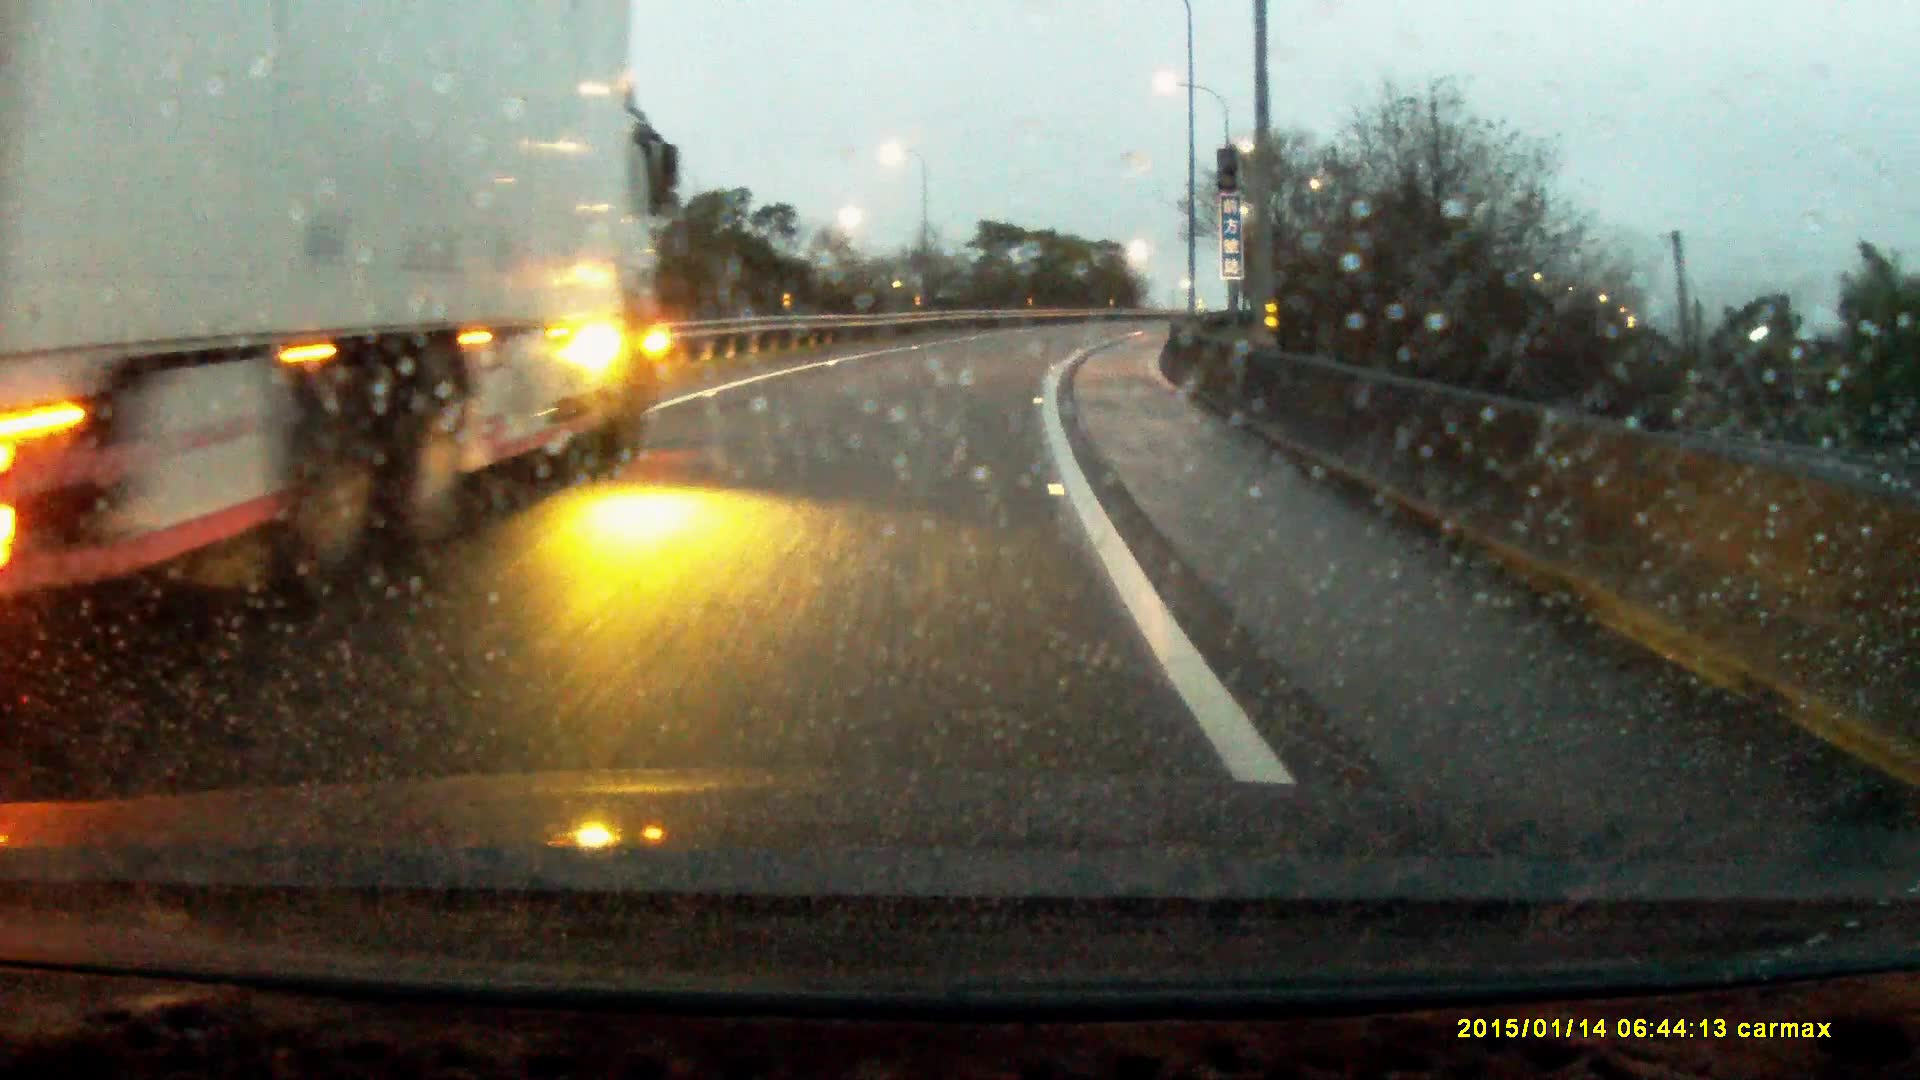vehicle: (1, 1, 674, 618)
